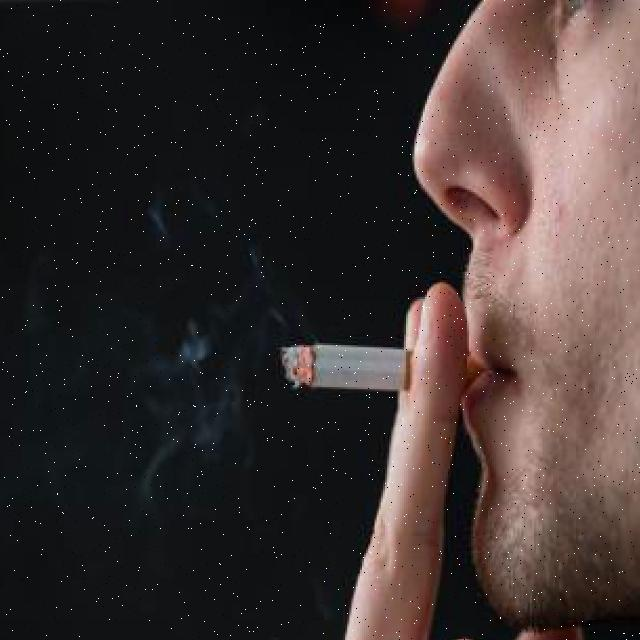smoke: (14, 177, 292, 536)
